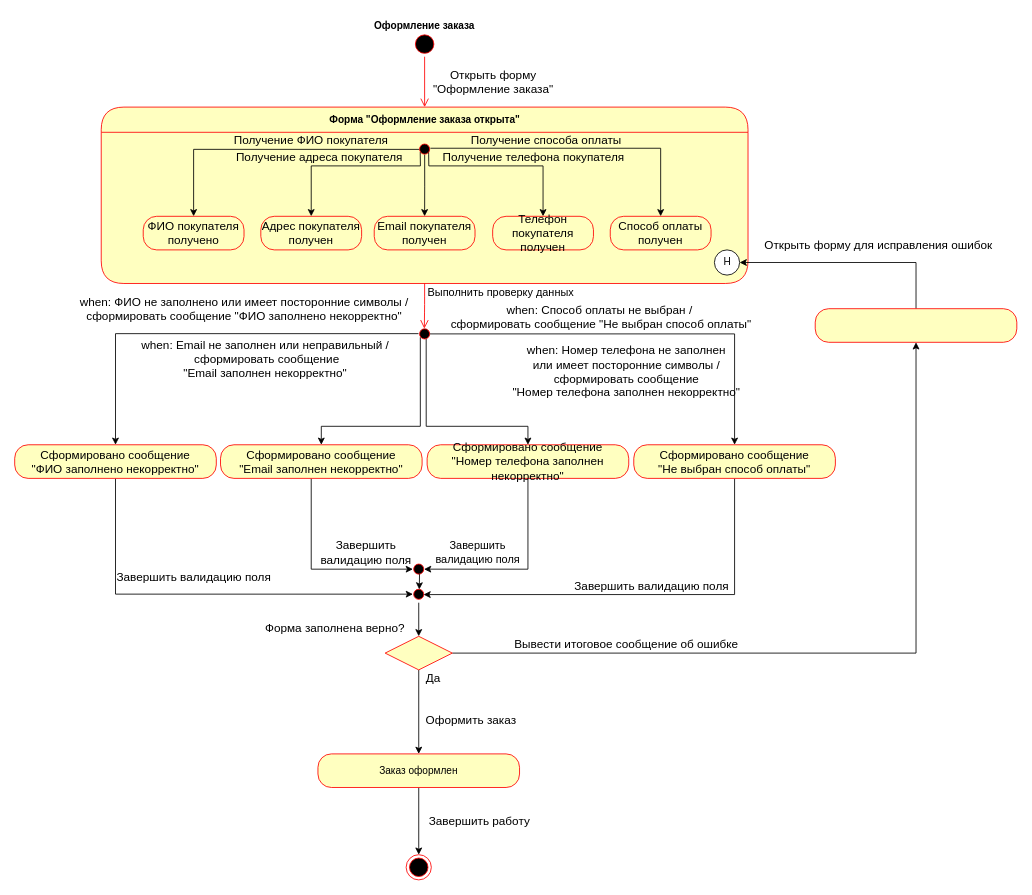
Some shapes in this 1032 by 895 pixel diagram are drawn without their labels. The shapes that lost their labels are listed below. From the top down, each one's centre as x and y in pixels, then its label:
At (x=915, y=325): "Итоговое сообщение об ошибке выведено".
At (x=418, y=652): "Нет".
